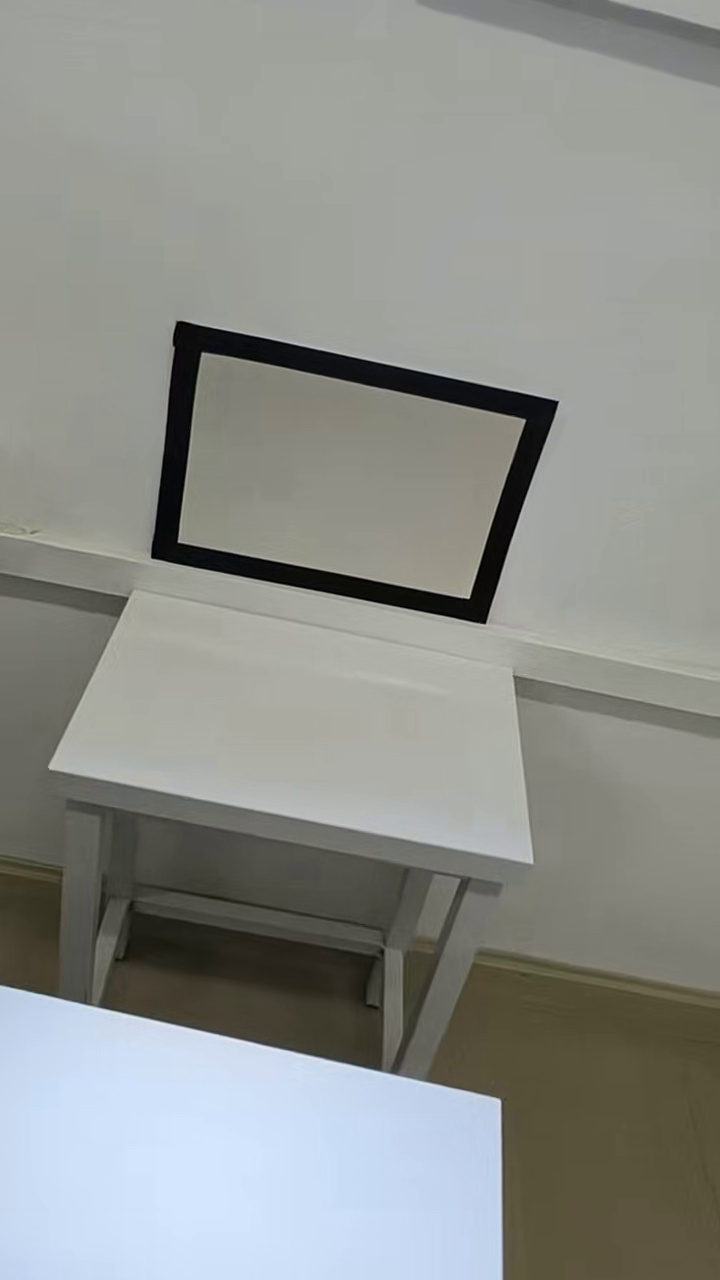board: (156, 324, 560, 623)
